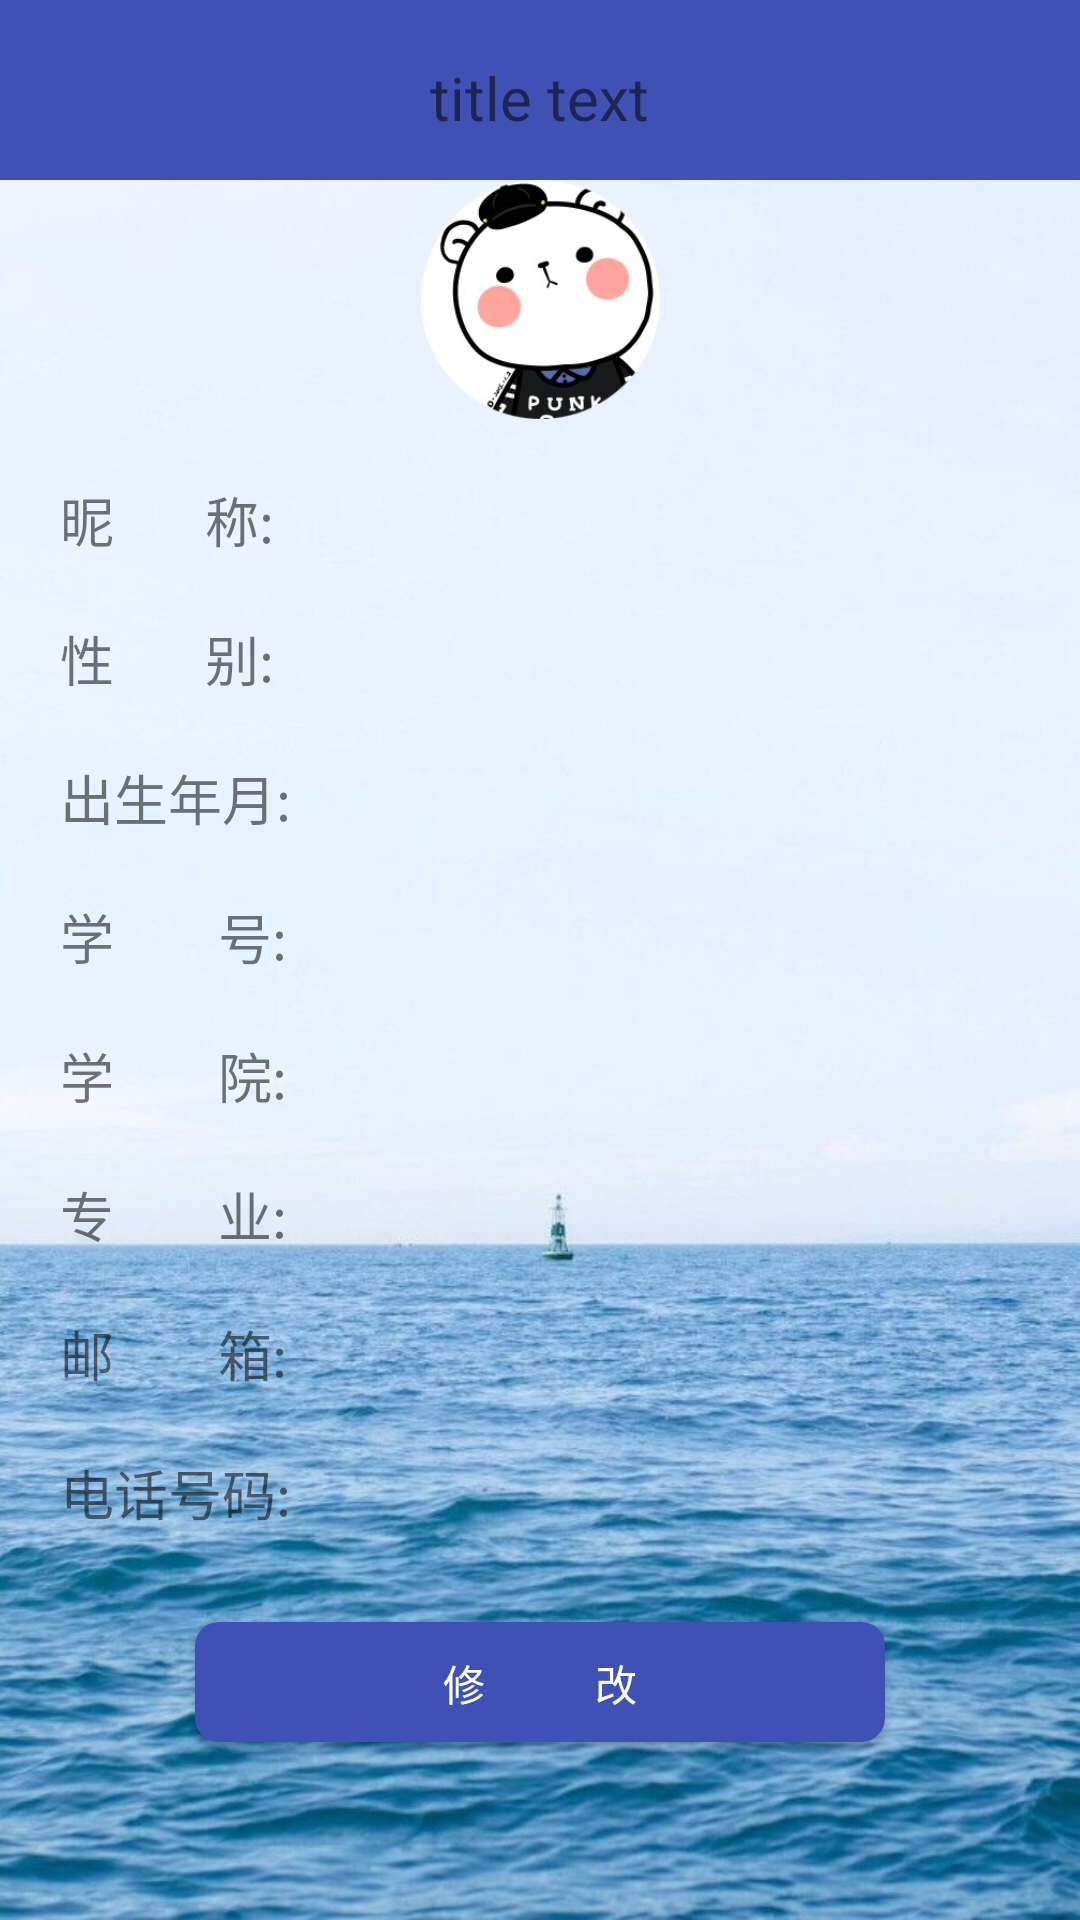

Icons on this 1080×1920 Android screen, each with the point to tap as point (x, y):
head: point (540, 299)
